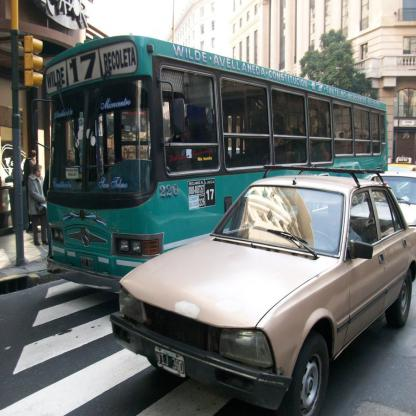Car: (106, 176, 406, 403), (351, 171, 416, 237), (387, 158, 416, 173)
